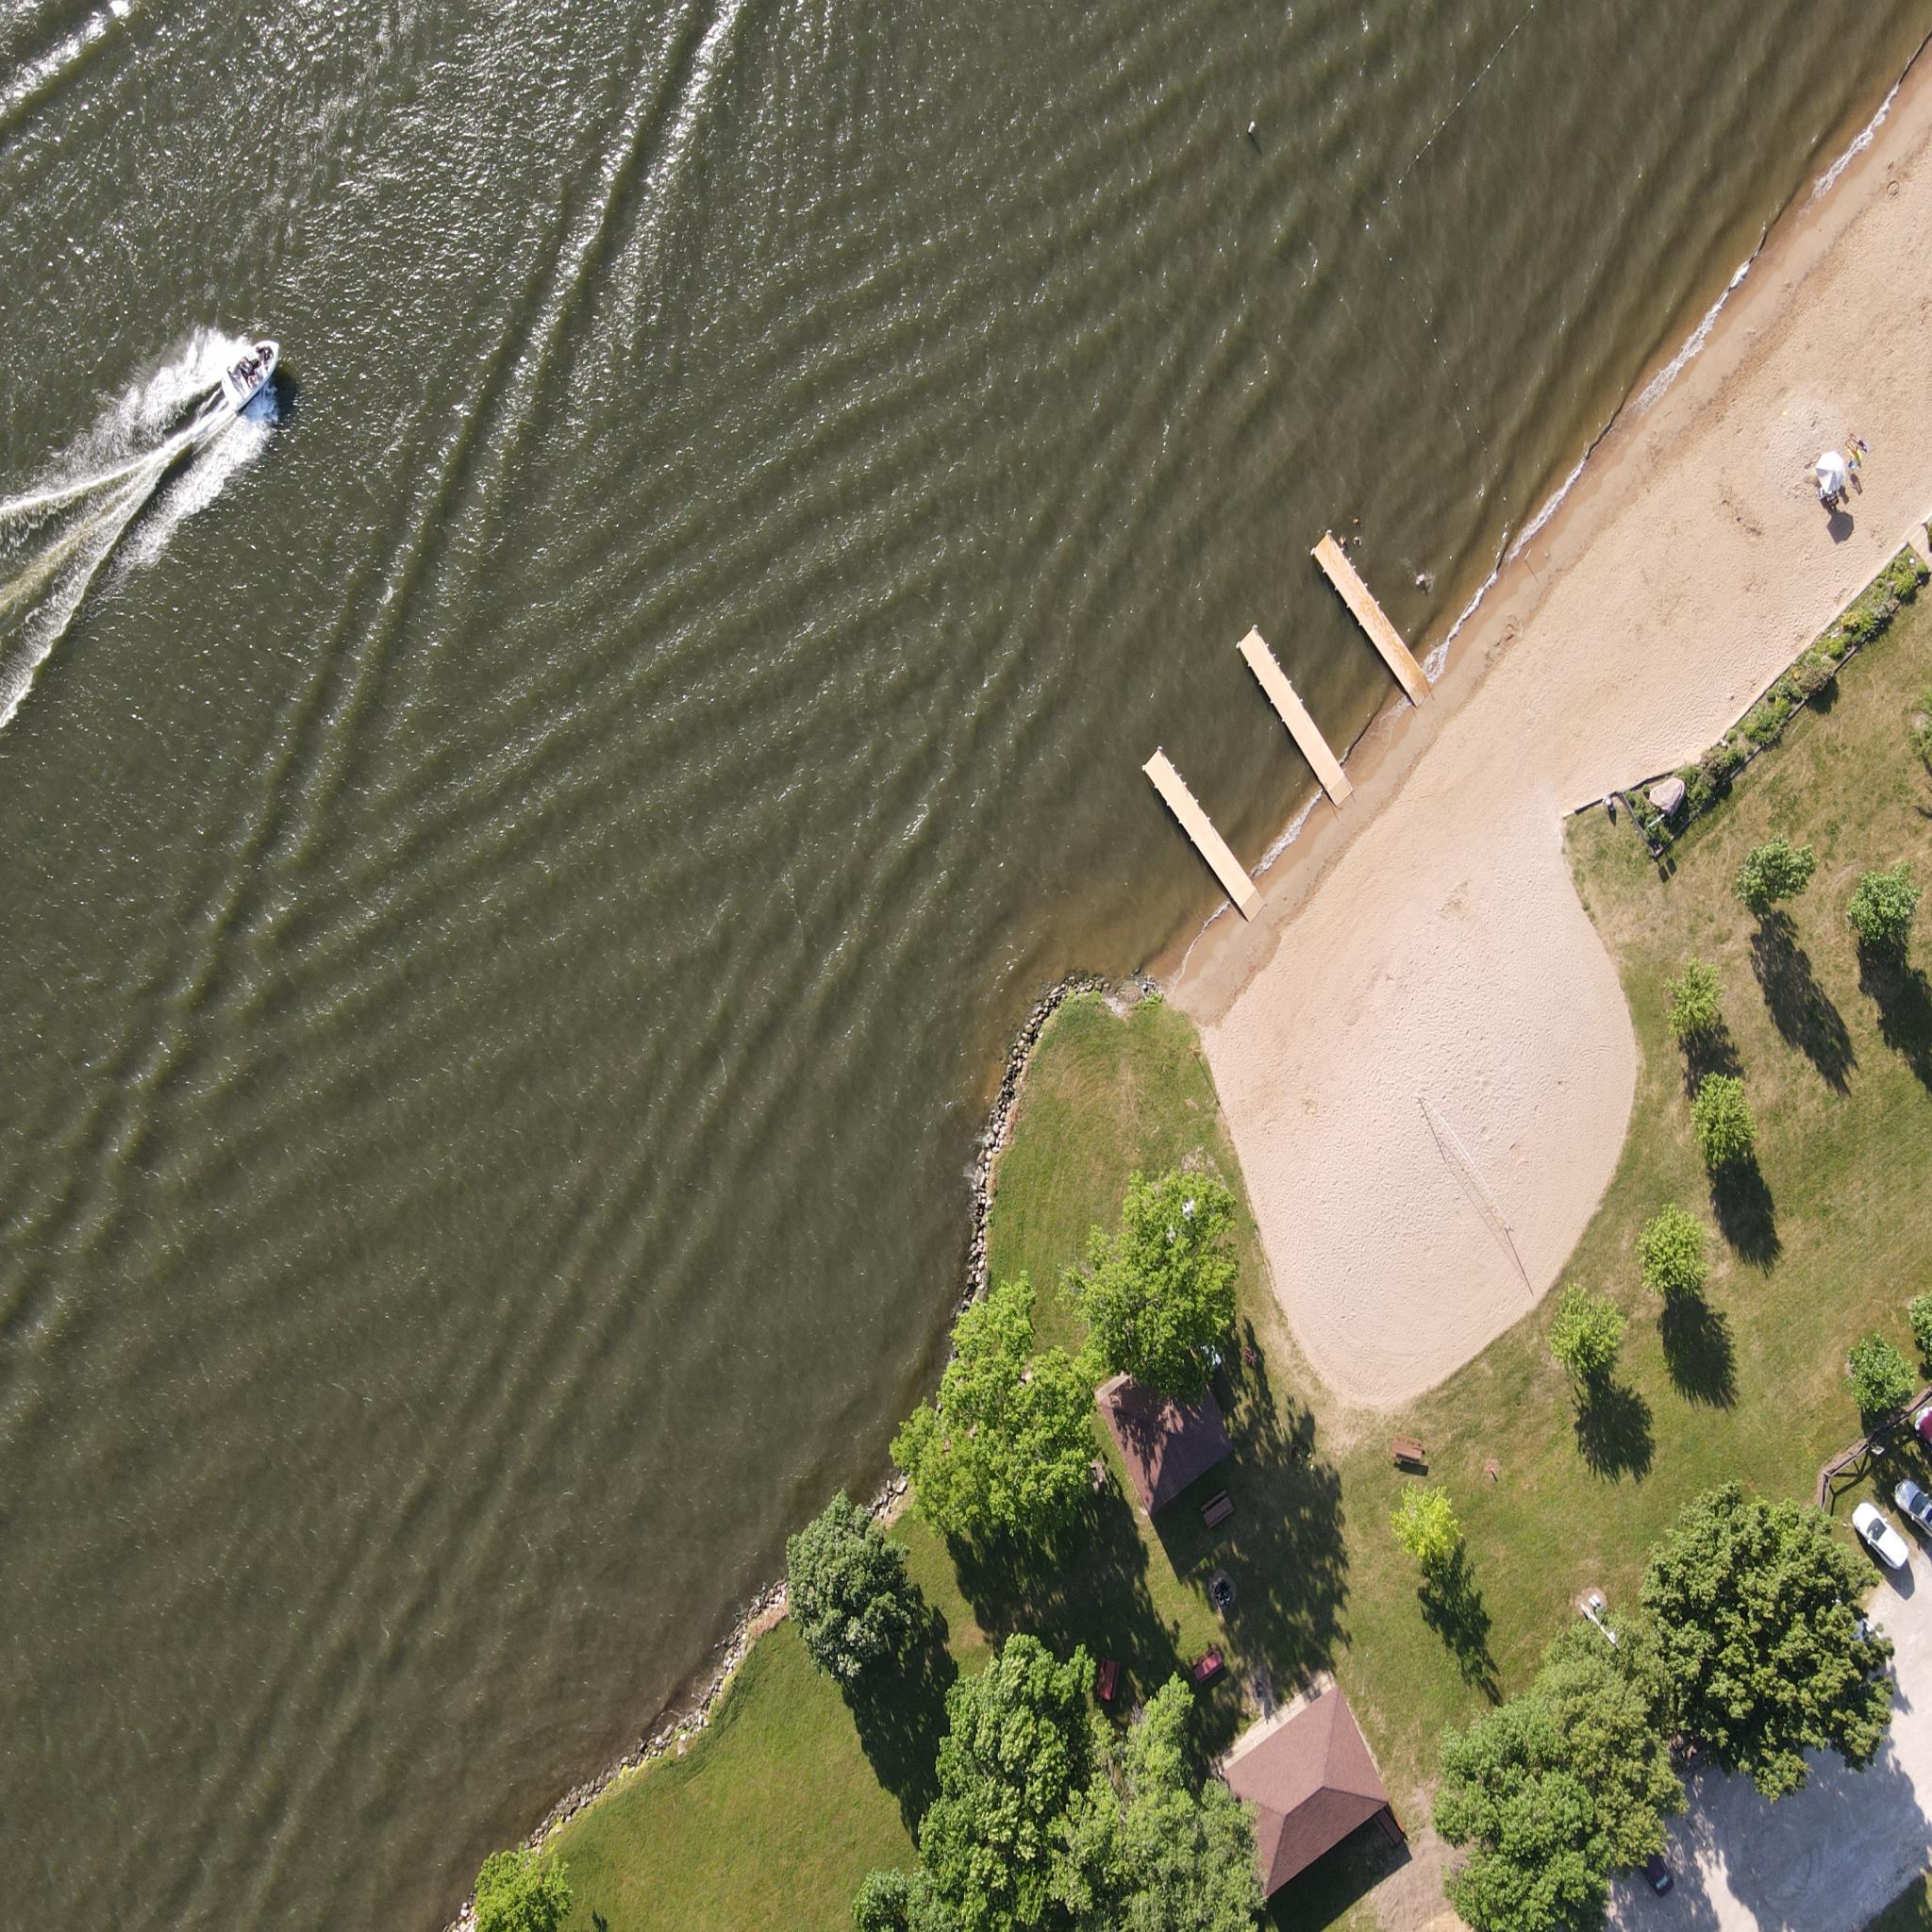boat: (223, 331, 285, 421)
car: (1852, 1500, 1911, 1578), (1897, 1468, 1932, 1557), (1633, 1842, 1677, 1900), (1909, 1396, 1932, 1491)
dock: (1235, 584, 1353, 846), (1311, 511, 1440, 722), (1139, 731, 1263, 948)
lift: (1868, 520, 1870, 522)
